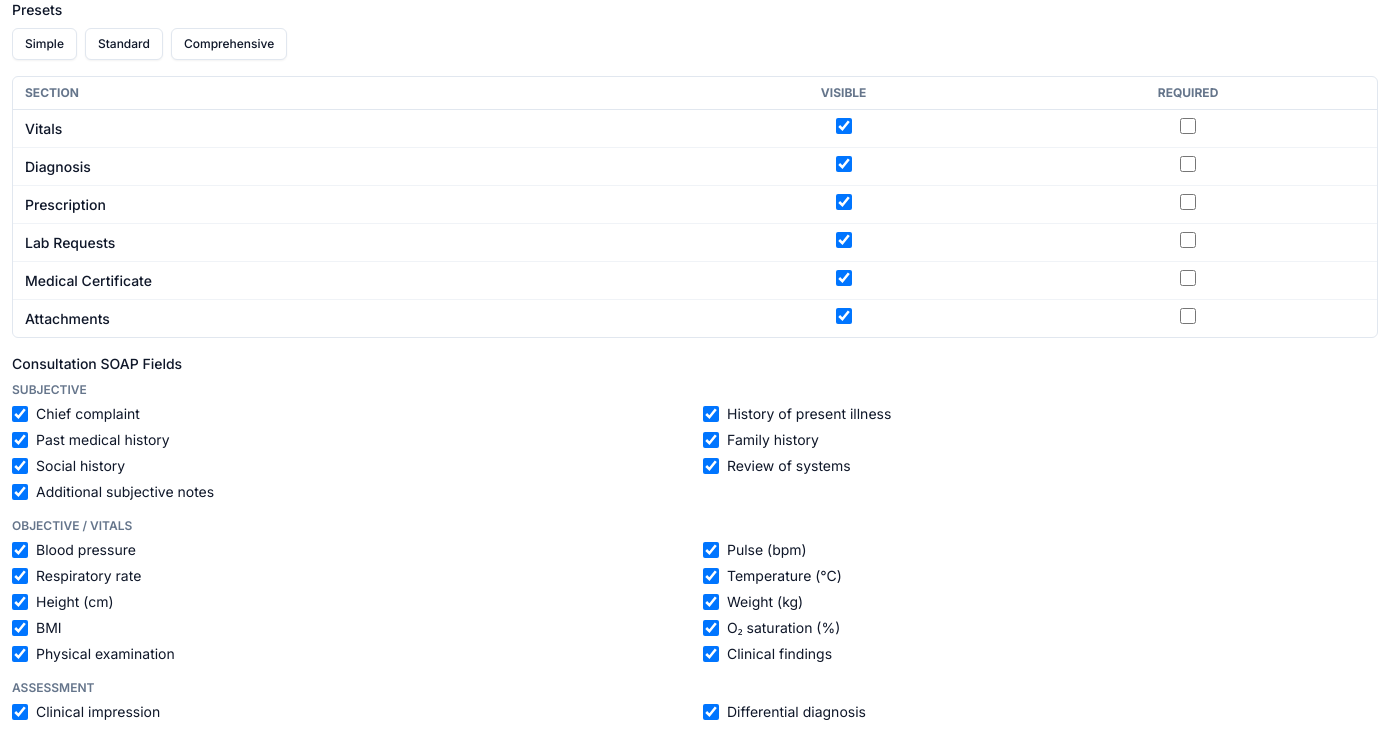
Test: DoctorWorkspaceConfigSettings - Consultation SOAP Fields › applying a section preset does not reset the doctor's SOAP field selections
This screenshot has width=1390, height=730.
expect the checkbox named "Vitals required" is not checked: met, box [1180, 118, 1196, 134]
Click the button "Comprehensive".
click(229, 44)  # box [171, 28, 287, 60]
(page scrolled)
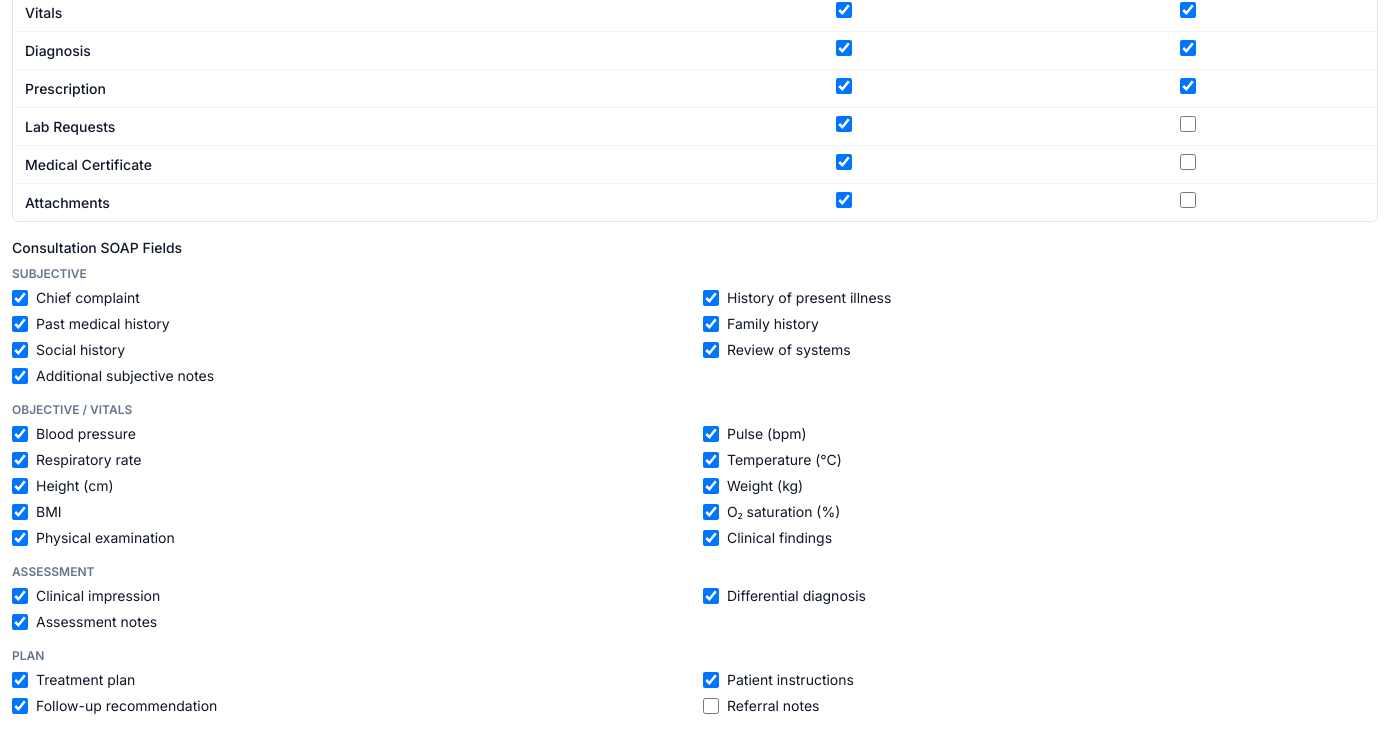
expect the checkbox labelled "Referral notes" is not checked: met, box [703, 698, 719, 714]
expect the checkbox named "Vitals required" is checked: met, box [1180, 2, 1196, 18]
